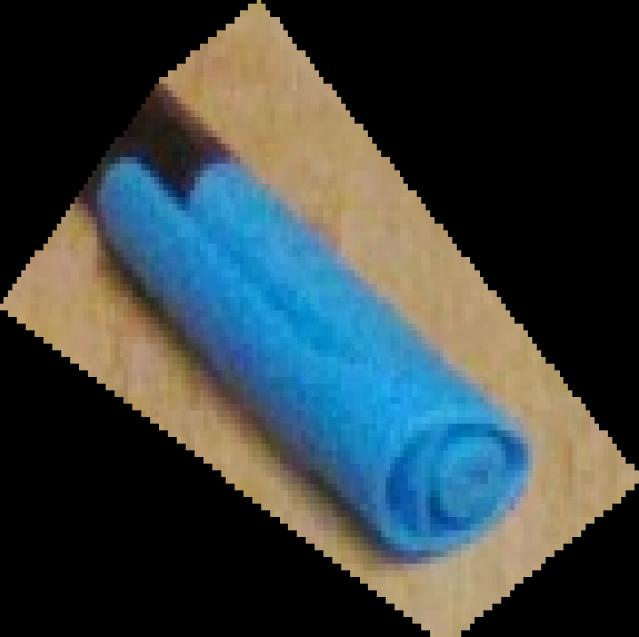blue: (0, 0, 639, 637)
